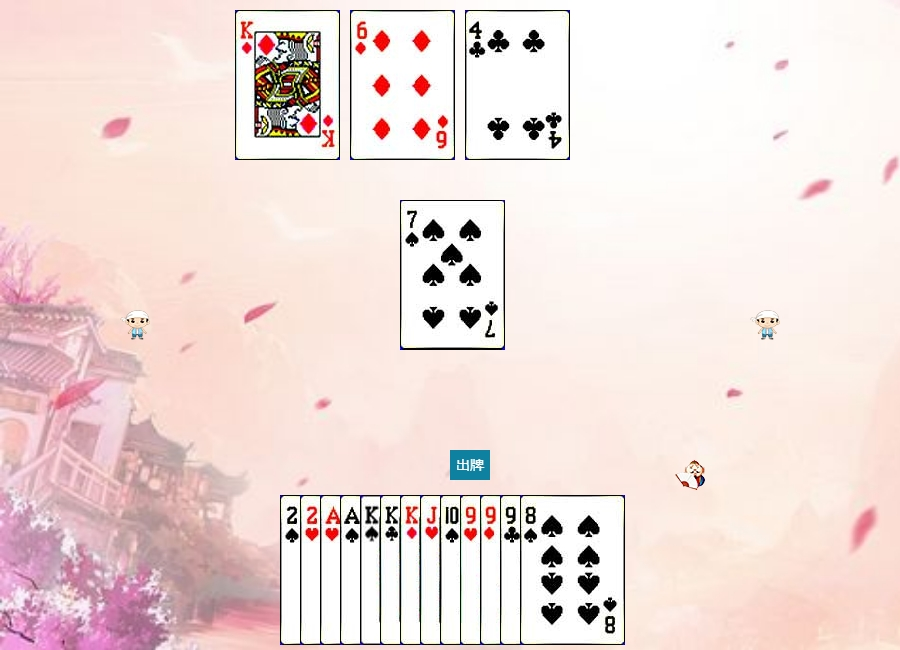10~4: (440, 495, 545, 645)
11~3: (420, 495, 525, 645)
13~1: (235, 10, 340, 160), (400, 495, 505, 645)
13~2: (380, 495, 485, 645)
13~4: (360, 495, 465, 645)
14~3: (320, 495, 425, 645)
14~4: (340, 495, 445, 645)
15~3: (300, 495, 405, 645)
15~4: (280, 495, 385, 645)
4~2: (465, 10, 570, 160)
6~1: (350, 10, 455, 160)
7~4: (400, 200, 505, 350)
8~4: (520, 495, 625, 645)
9~1: (480, 495, 585, 645)
9~2: (500, 495, 605, 645)
9~3: (460, 495, 565, 645)
